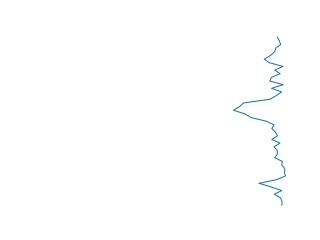interdistributaryEstuary: (227, 38, 292, 207)
